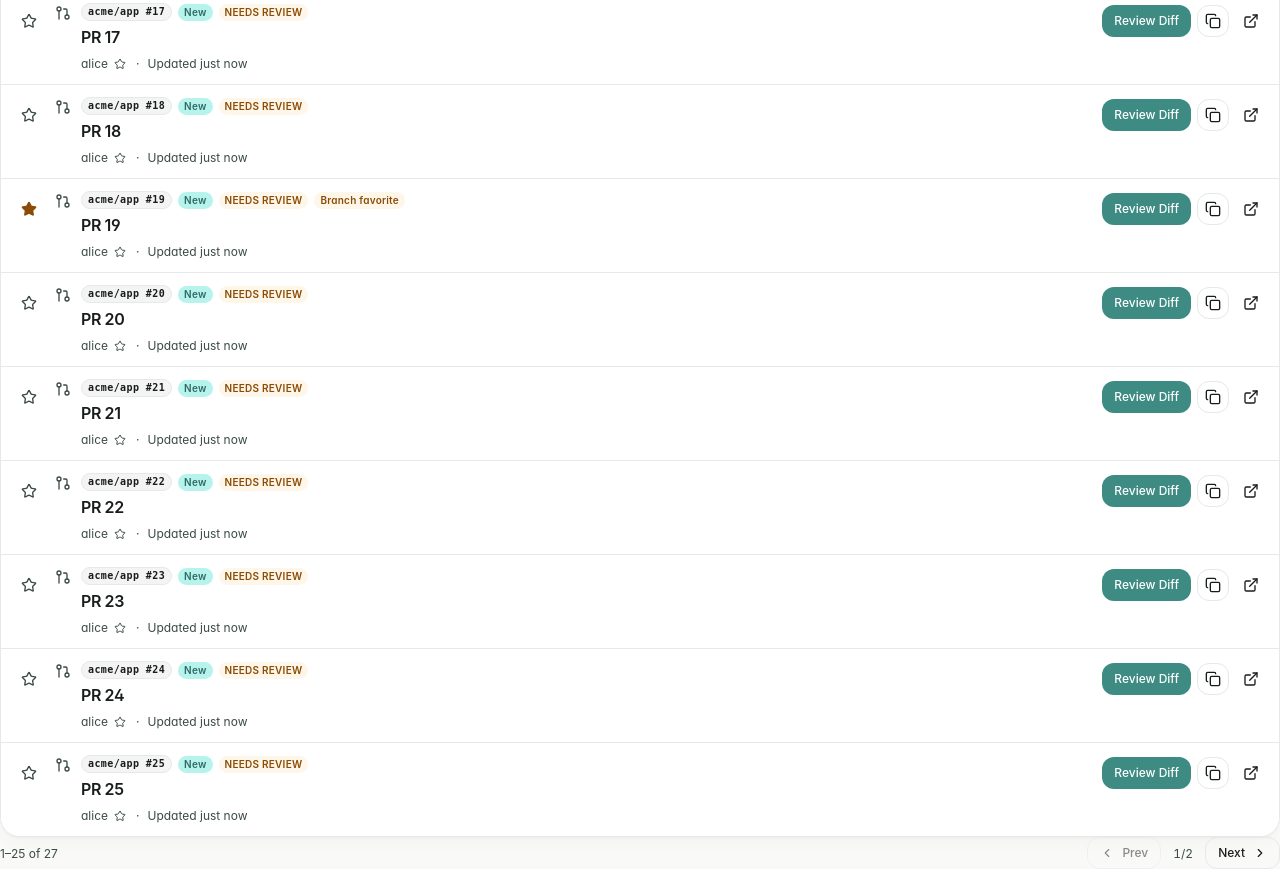
Test case: PRList › paginates long lists and shows stale banner
(page scrolled)
Expected: the text "1–25 of 27" is shown, [0,844,58,862]
Expected: the button with aria-label "Previous page" is disabled, [1087,837,1161,868]
Click the button with aria-label "Next page" at (1243, 853), box [1205,837,1279,868]
(page scrolled)
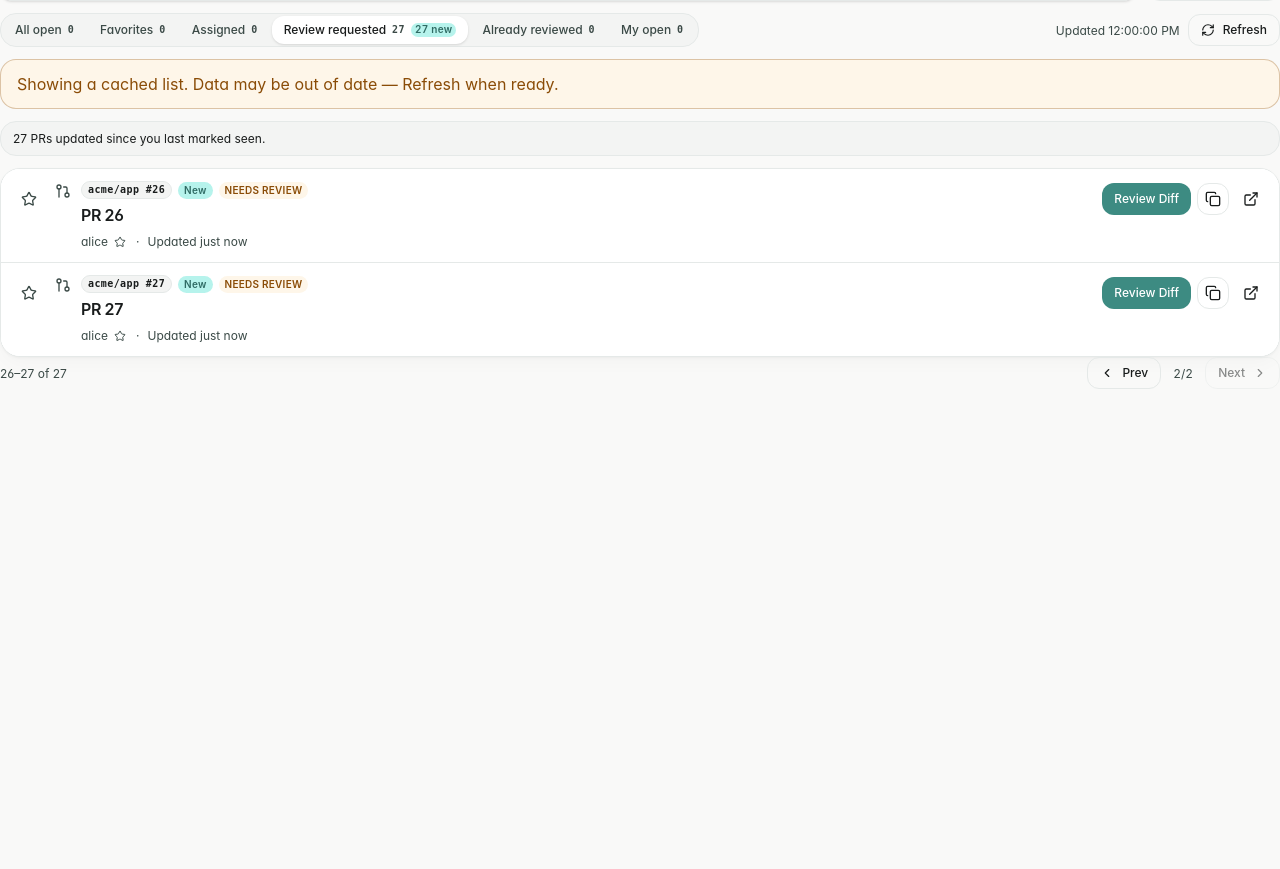
Expected: the text "26–27 of 27" is shown, [0,364,67,382]
Expected: the button with aria-label "Next page" is disabled, [1205,357,1279,389]
Click the button with aria-label "Previous page" at (1124, 373), box [1087,357,1161,389]
(page scrolled)
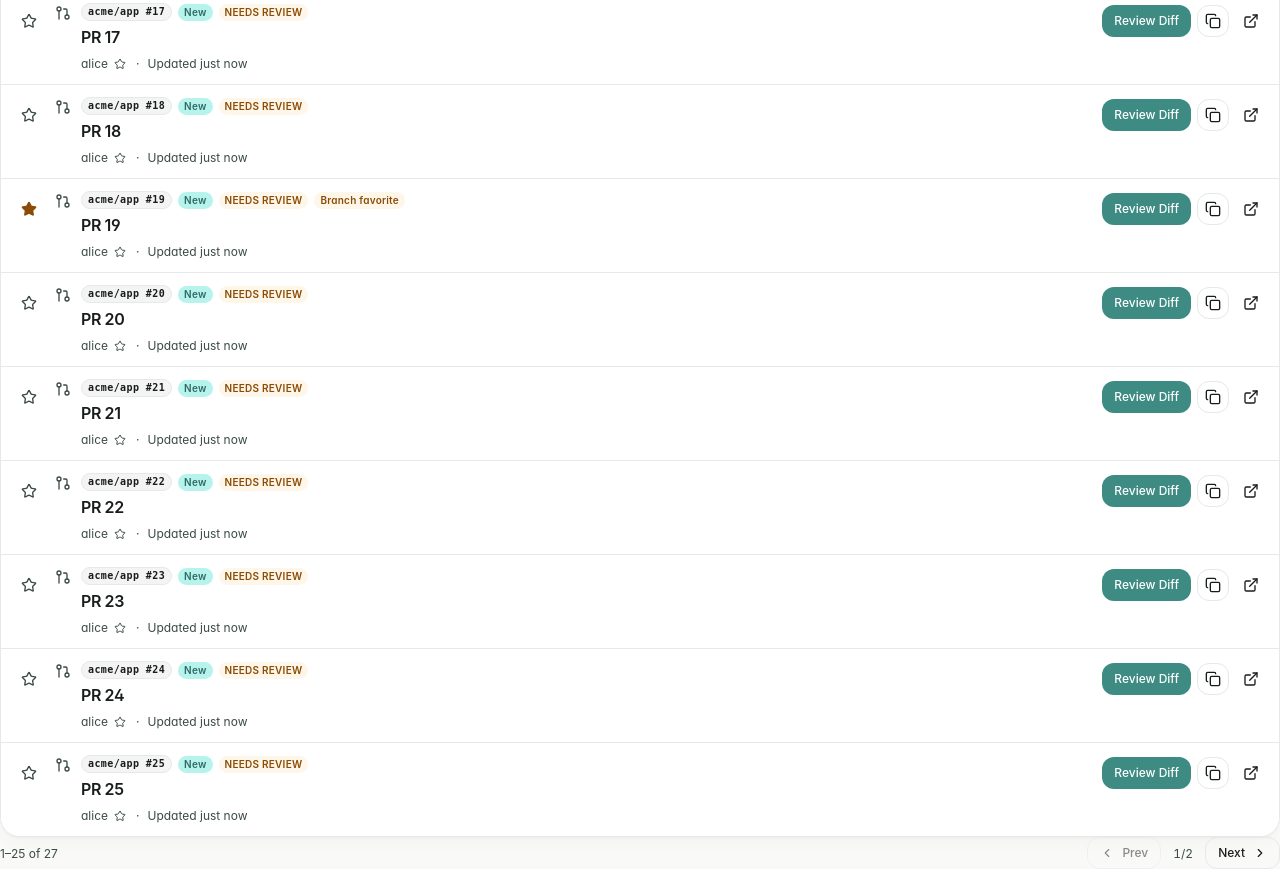
Expected: the text "1–25 of 27" is shown, [0,844,58,862]
